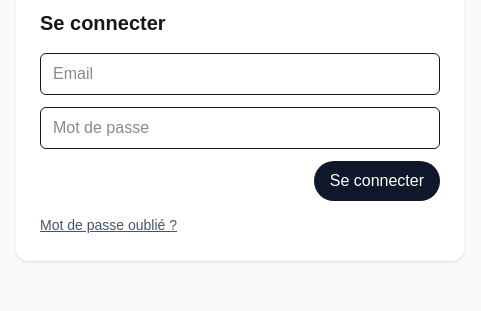
Test: LoginPage › shows fallback error message when server provides no message
Click the button "Se connecter" at (377, 181), box [314,161,440,201]
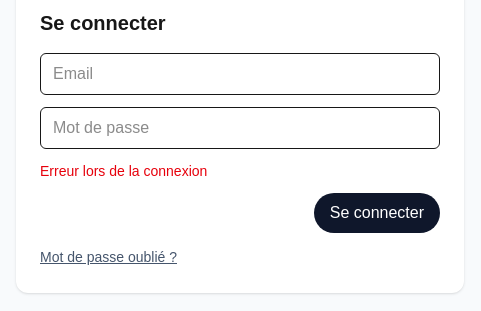
Check: the text "Erreur lors de la connexion" is shown, box [40,163,207,179]
